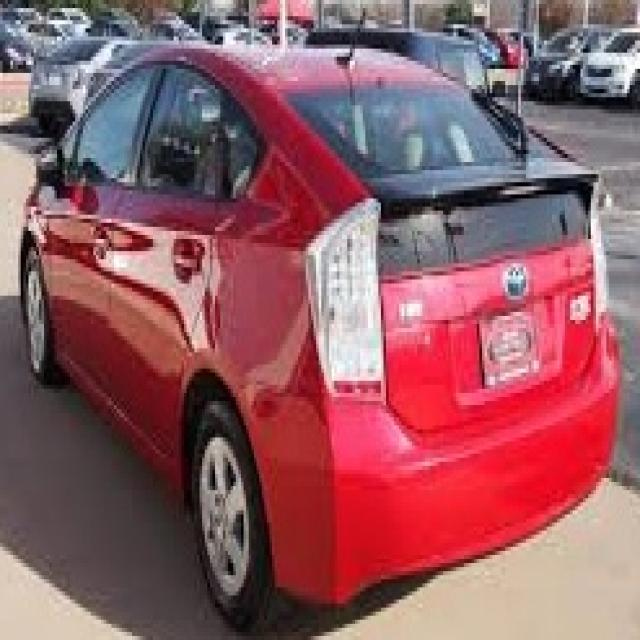red: (22, 41, 606, 606)
